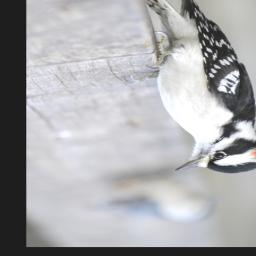Woodpecker: (137, 0, 256, 183)
